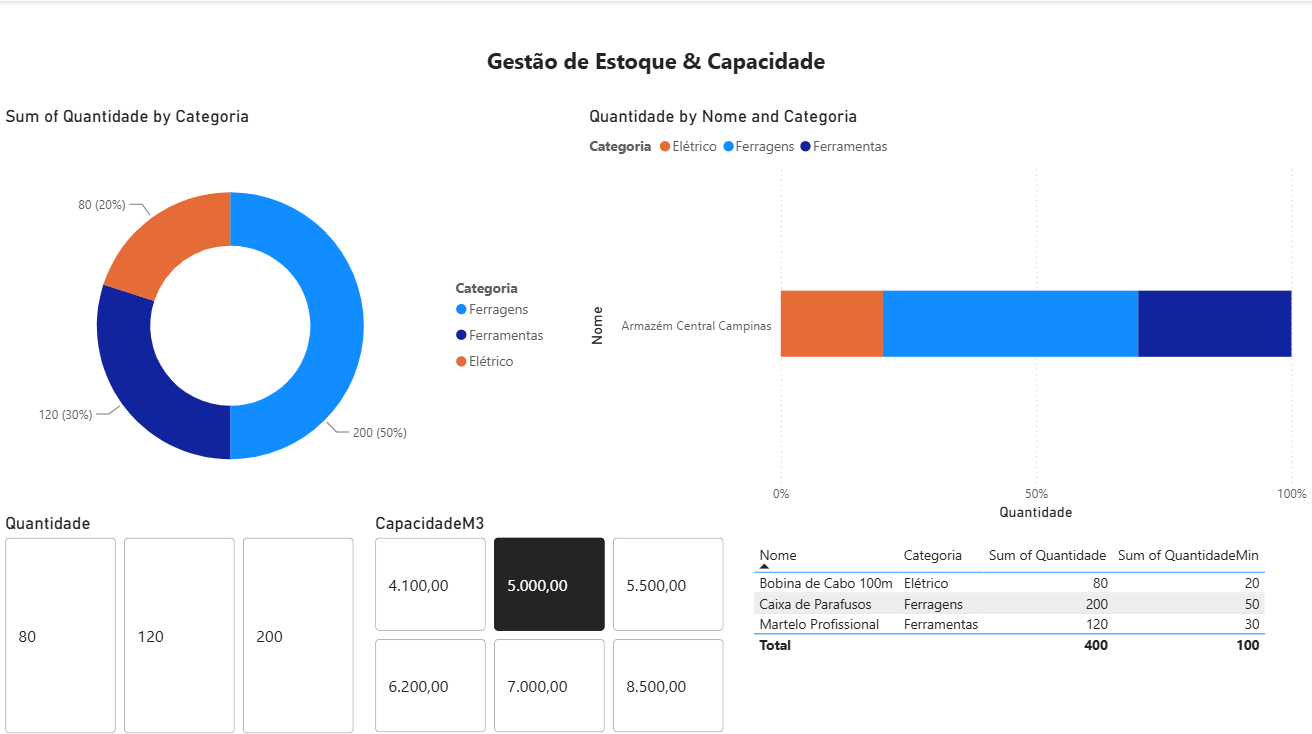

The page's visual inventory and layout, read from the dashboard file:
{"tool":"powerbi","page":{"name":"Gestão de Estoque & Capacidade","canvas":[1280,720],"ordinal":2},"visuals":[{"type":"textbox","box":[0,37.9,1280,44.7],"z":0},{"type":"donutChart","fields":{"Y":["Sum(Estoque.Quantidade)"],"Category":["Produtos.Categoria"]},"box":[0,102.4,544.4,409.8],"z":1000},{"type":"hundredPercentStackedBarChart","fields":{"Category":["Armazens.Nome"],"Y":["Sum(Estoque.Quantidade)"],"Series":["Produtos.Categoria"]},"box":[569.8,102.4,710.2,409.8],"z":2000},{"type":"advancedSlicerVisual","fields":{"Values":["Estoque.Quantidade"]},"box":[0,499.5,351.2,220.5],"z":2001},{"type":"advancedSlicerVisual","fields":{"Values":["Armazens.CapacidadeM3"]},"box":[361,499.5,351.2,220.5],"z":2002},{"type":"tableEx","fields":{"Values":["Produtos.Nome","Produtos.Categoria","Sum(Estoque.Quantidade)","Sum(Estoque.QuantidadeMin)"]},"box":[729.8,524.9,550.2,195.1],"z":2003}]}

Visuals, with their boxes in screenshot pixels (x1, y1, x2, y2), scaled from the page's 1280x720 canvas onto the 1312x734 screenshot:
textbox: {"left": 0, "top": 39, "right": 1311, "bottom": 84}
donutChart - Sum(Estoque.Quantidade) x Produtos.Categoria: {"left": 0, "top": 104, "right": 558, "bottom": 522}
hundredPercentStackedBarChart - Armazens.Nome x Sum(Estoque.Quantidade): {"left": 584, "top": 104, "right": 1311, "bottom": 522}
advancedSlicerVisual - Estoque.Quantidade: {"left": 0, "top": 509, "right": 360, "bottom": 733}
advancedSlicerVisual - Armazens.CapacidadeM3: {"left": 370, "top": 509, "right": 730, "bottom": 733}
tableEx - Produtos.Nome x Produtos.Categoria: {"left": 748, "top": 535, "right": 1311, "bottom": 733}
